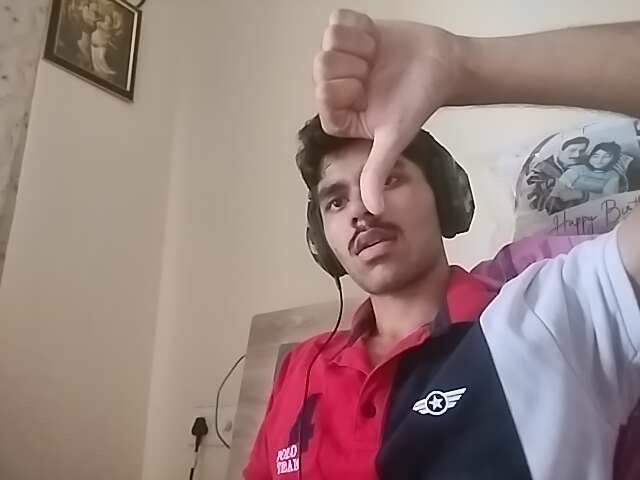No: (314, 3, 476, 219)
